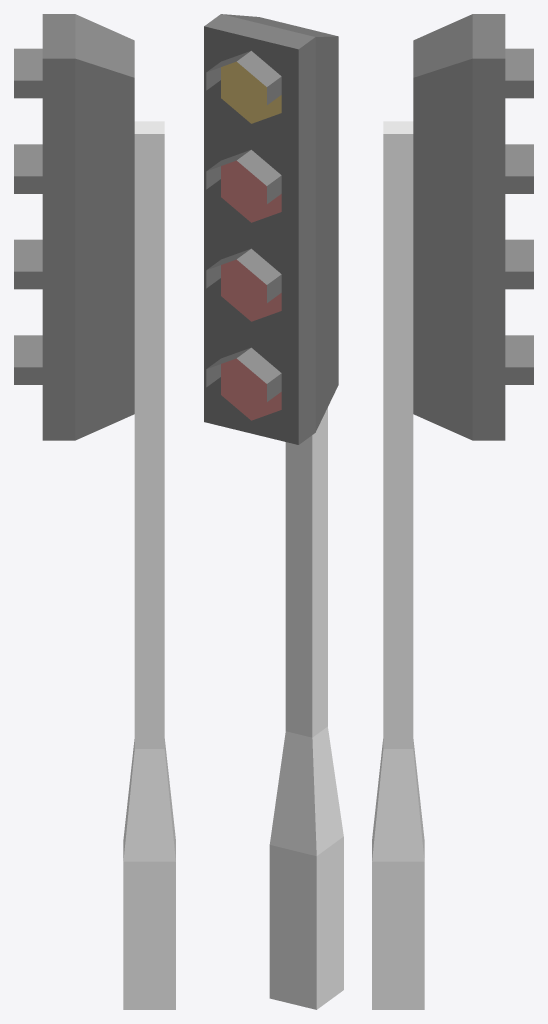
Rendered from lightRed.glb.
3 renders of one model, left to right at view 1: azimuth 90°, elevation 25°; view 2: azimuth 150°, elevation 25°; view 3: azimuth 270°, elevation 25°, orthographic. The views are drawn at different scales.
Visible parts, largest first — view 1: lightRed; view 2: lightRed; view 3: lightRed.
Part boxes in pixels (bbox=[...]): lightRed: bbox=[14, 14, 175, 1009]; lightRed: bbox=[204, 14, 343, 1009]; lightRed: bbox=[372, 14, 533, 1009].
Bounding box in the file's own units: 0.0708 × 0.7134 × 0.1087.
